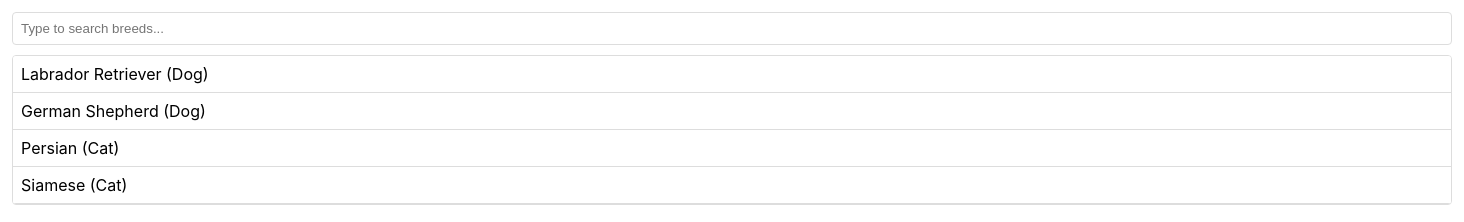
BreedSelector Component › handles empty search results
Expected: the list item "Labrador Retriever (Dog)" is shown, [13, 56, 1451, 93]
In the field with placeholder "Type to search breeds...": (732, 28) [12, 12, 1452, 45], type "nonexistentbreed"
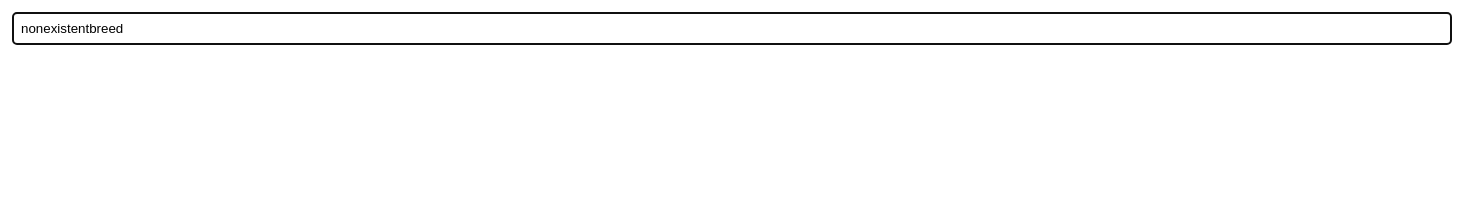
Expected: the list item "Labrador Retriever (Dog)" is gone
Expected: the list item "Persian (Cat)" is gone
